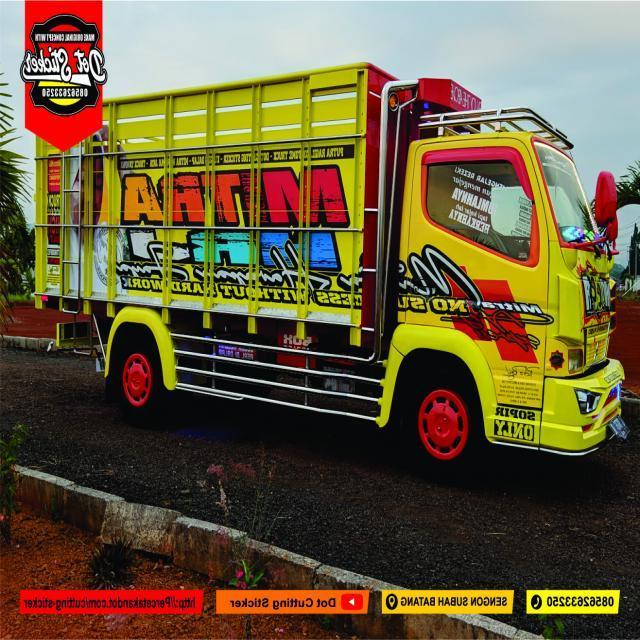truck: (31, 64, 629, 465)
